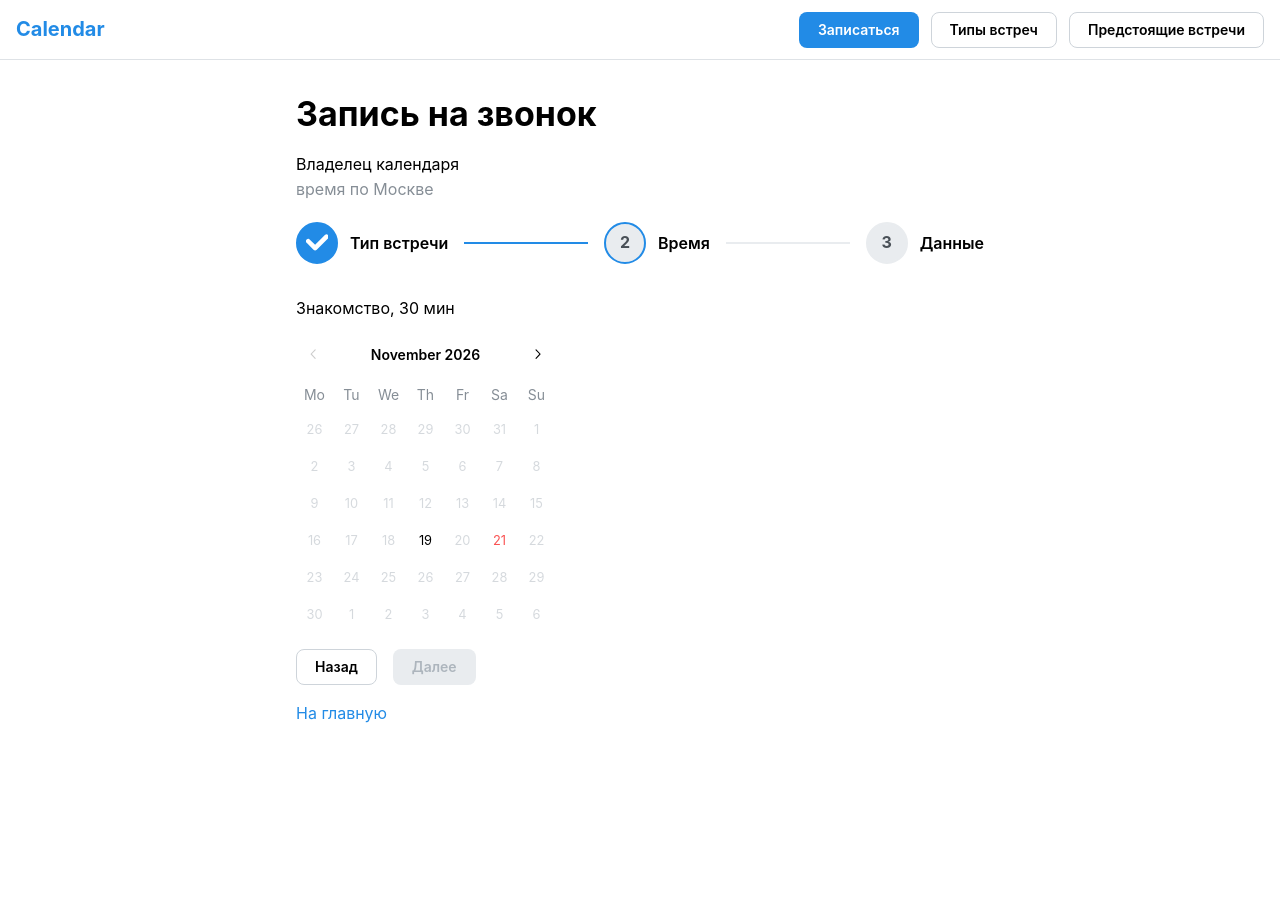
Test: шаг «Время» › после выбора дня показывает кнопки со временем начала слотов этого дня
Click the button "19".
click(426, 541)  # box 408,523 -> 444,559
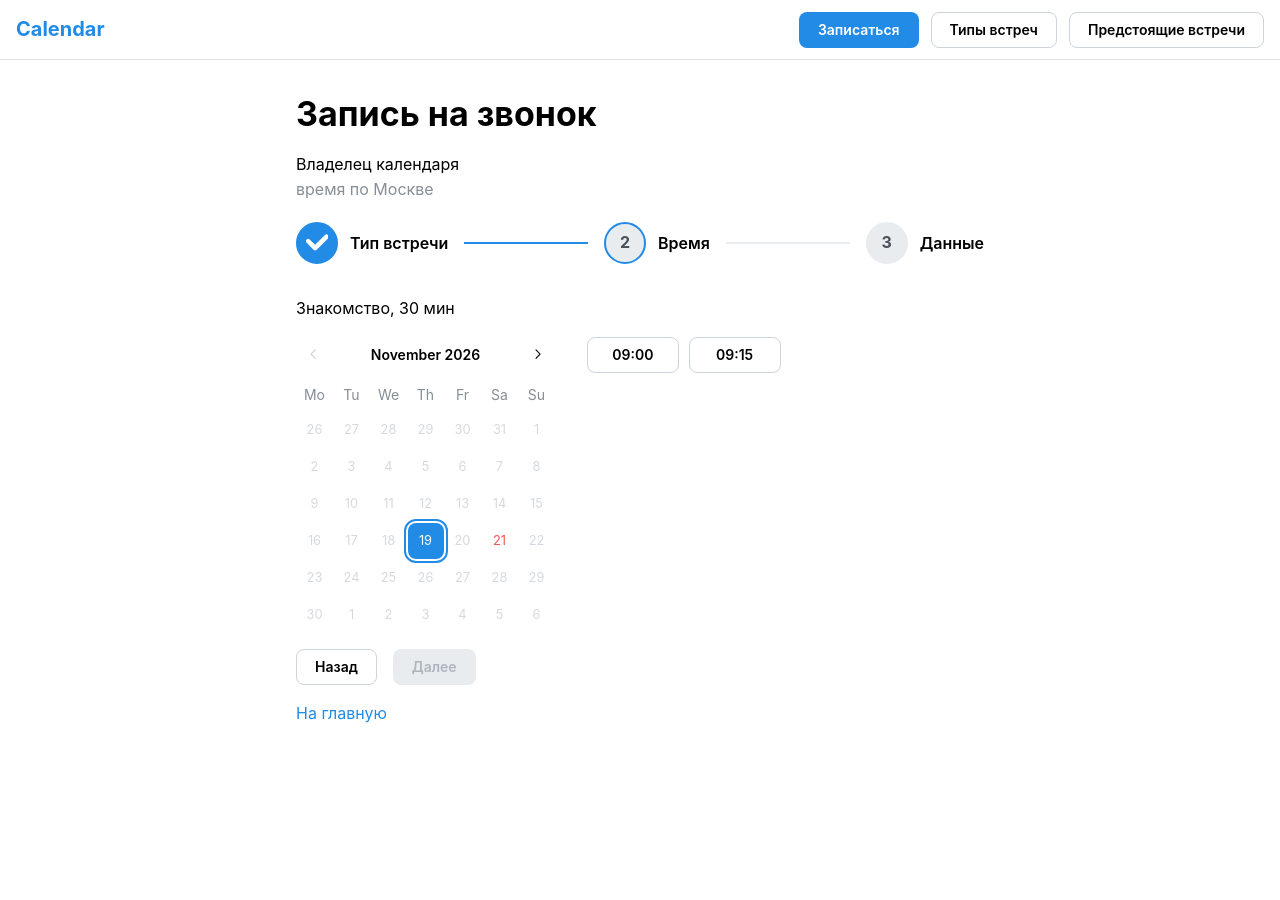
Expected: the button "09:00" is shown, 587,337 -> 679,373
Expected: the button "09:15" is shown, 689,337 -> 781,373
